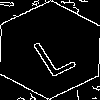L: (25, 25, 78, 79)
